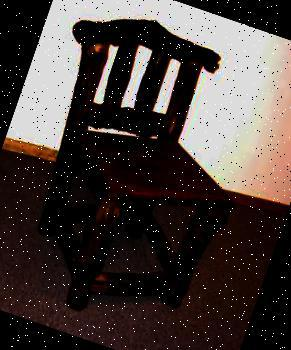Silla: (0, 0, 281, 348)
